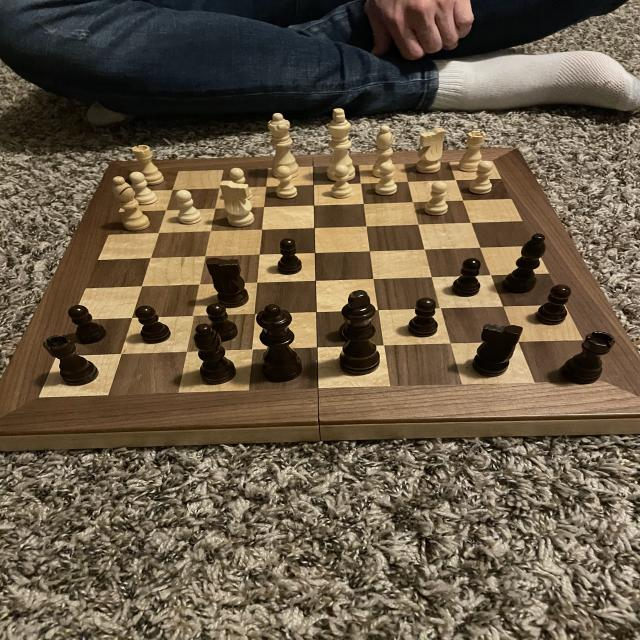bishop: (501, 230, 552, 295), (191, 321, 239, 388)
black-bishop: (333, 289, 384, 378)
black-king: (468, 320, 524, 380), (203, 254, 254, 311)
black-knight: (64, 302, 109, 346), (534, 282, 576, 328), (406, 293, 443, 340), (130, 304, 171, 346), (202, 300, 240, 344), (449, 255, 485, 301), (273, 236, 306, 278)
black-pawn: (252, 302, 306, 385)
black-queen: (556, 328, 618, 388), (42, 331, 101, 387)
black-rook: (108, 173, 156, 233), (368, 121, 401, 182)
white-bishop: (320, 106, 360, 183)
white-king: (214, 177, 260, 229), (414, 123, 448, 175)
white-knight: (168, 186, 207, 228), (270, 163, 302, 202), (127, 170, 159, 208), (467, 158, 498, 196), (422, 178, 451, 218), (226, 165, 256, 203), (372, 160, 402, 197), (329, 163, 357, 200)
white-pawn: (265, 109, 302, 179)
white-queen: (131, 141, 169, 187), (455, 128, 488, 175)
